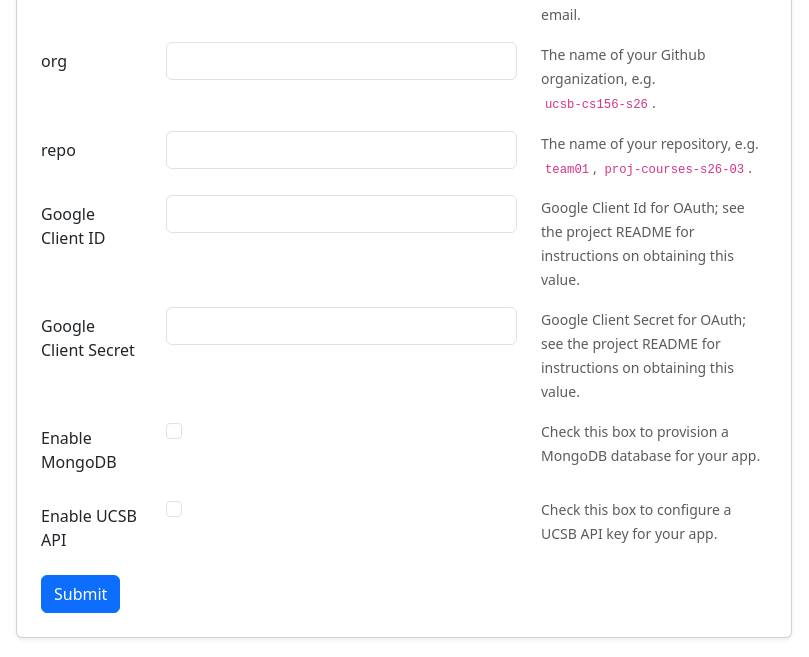
Scenario: DokkuScript tests › when ucsb_api checkbox is checked without filling in ucsb_api_key
(page scrolled)
Click the checkbox labelled "Enable UCSB API": (174, 509) [166,501,182,517]
(page scrolled)
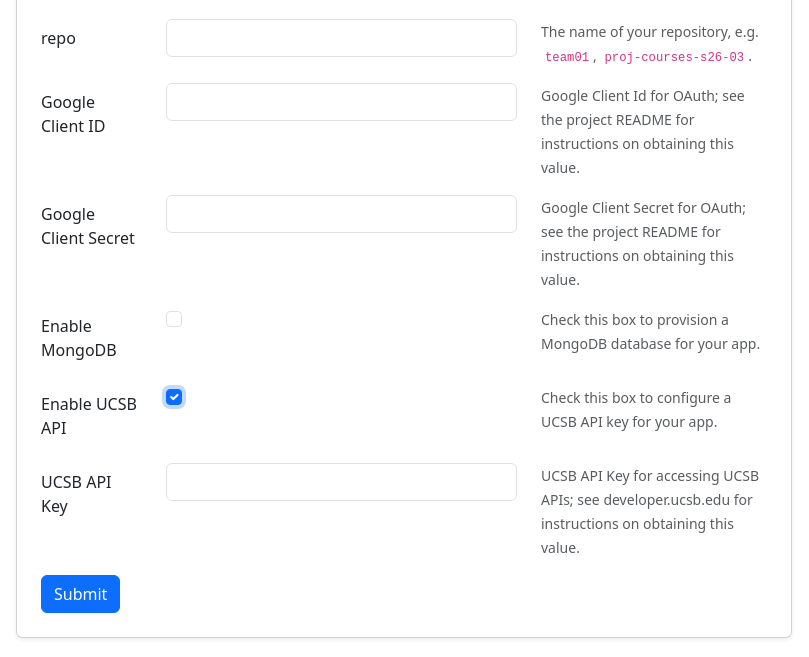
Click the button "Submit": (81, 594) [41,575,120,613]
(page scrolled)
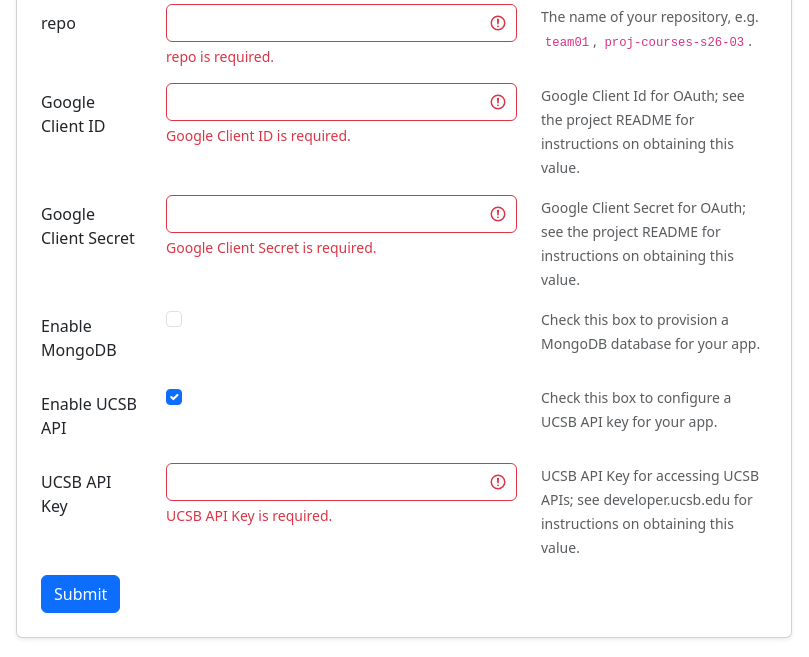
Expected: the text "UCSB API Key is required." is shown, [166,506,332,525]
